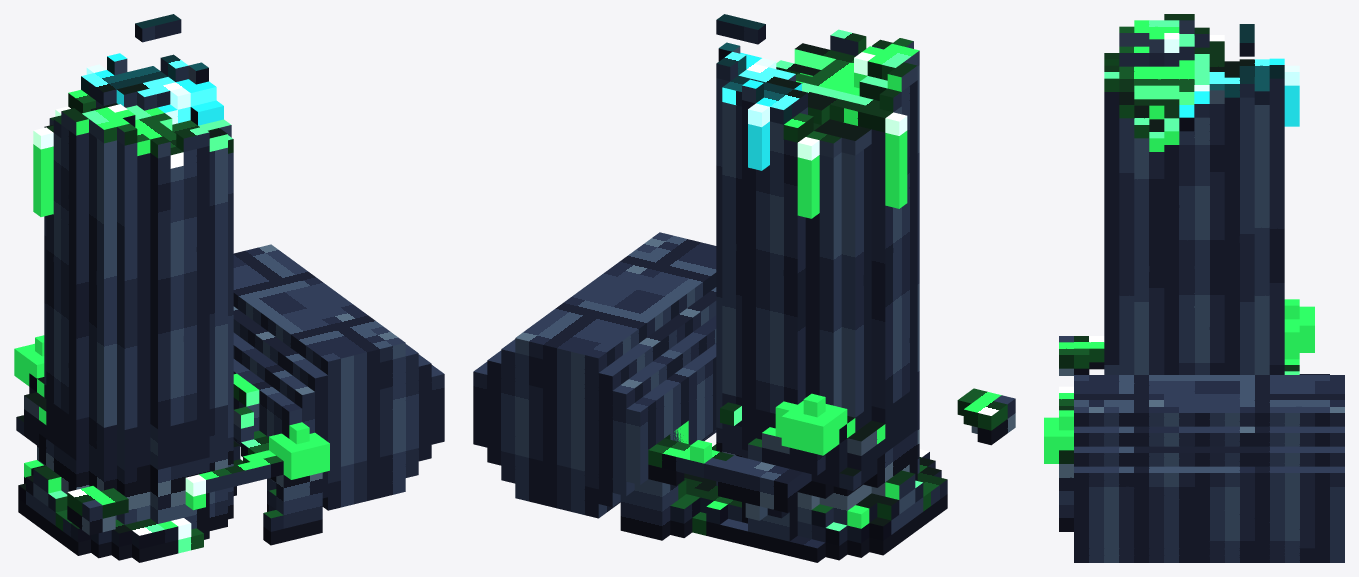
File: column_broken.glb
3 renders of one model, left to right at view 1: azimuth 30°, elevation 25°; view 2: azimuth 150°, elevation 25°; view 3: azimuth 270°, elevation 25°, orthographic. The views are drawn at different scales.
Parts seen in each view (by area): view 1: column, drum; view 2: column, drum; view 3: column, drum.
Boxes of the visible parts, <box> form: column: <box>14,14,329,562</box>; drum: <box>233,244,444,510</box>; column: <box>620,14,1015,562</box>; drum: <box>473,232,716,518</box>; column: <box>1044,14,1329,531</box>; drum: <box>1074,375,1344,562</box>.
Size of the model in its own units: 1.75 by 2.12 by 1.25.
10 materials, 10 textured.
